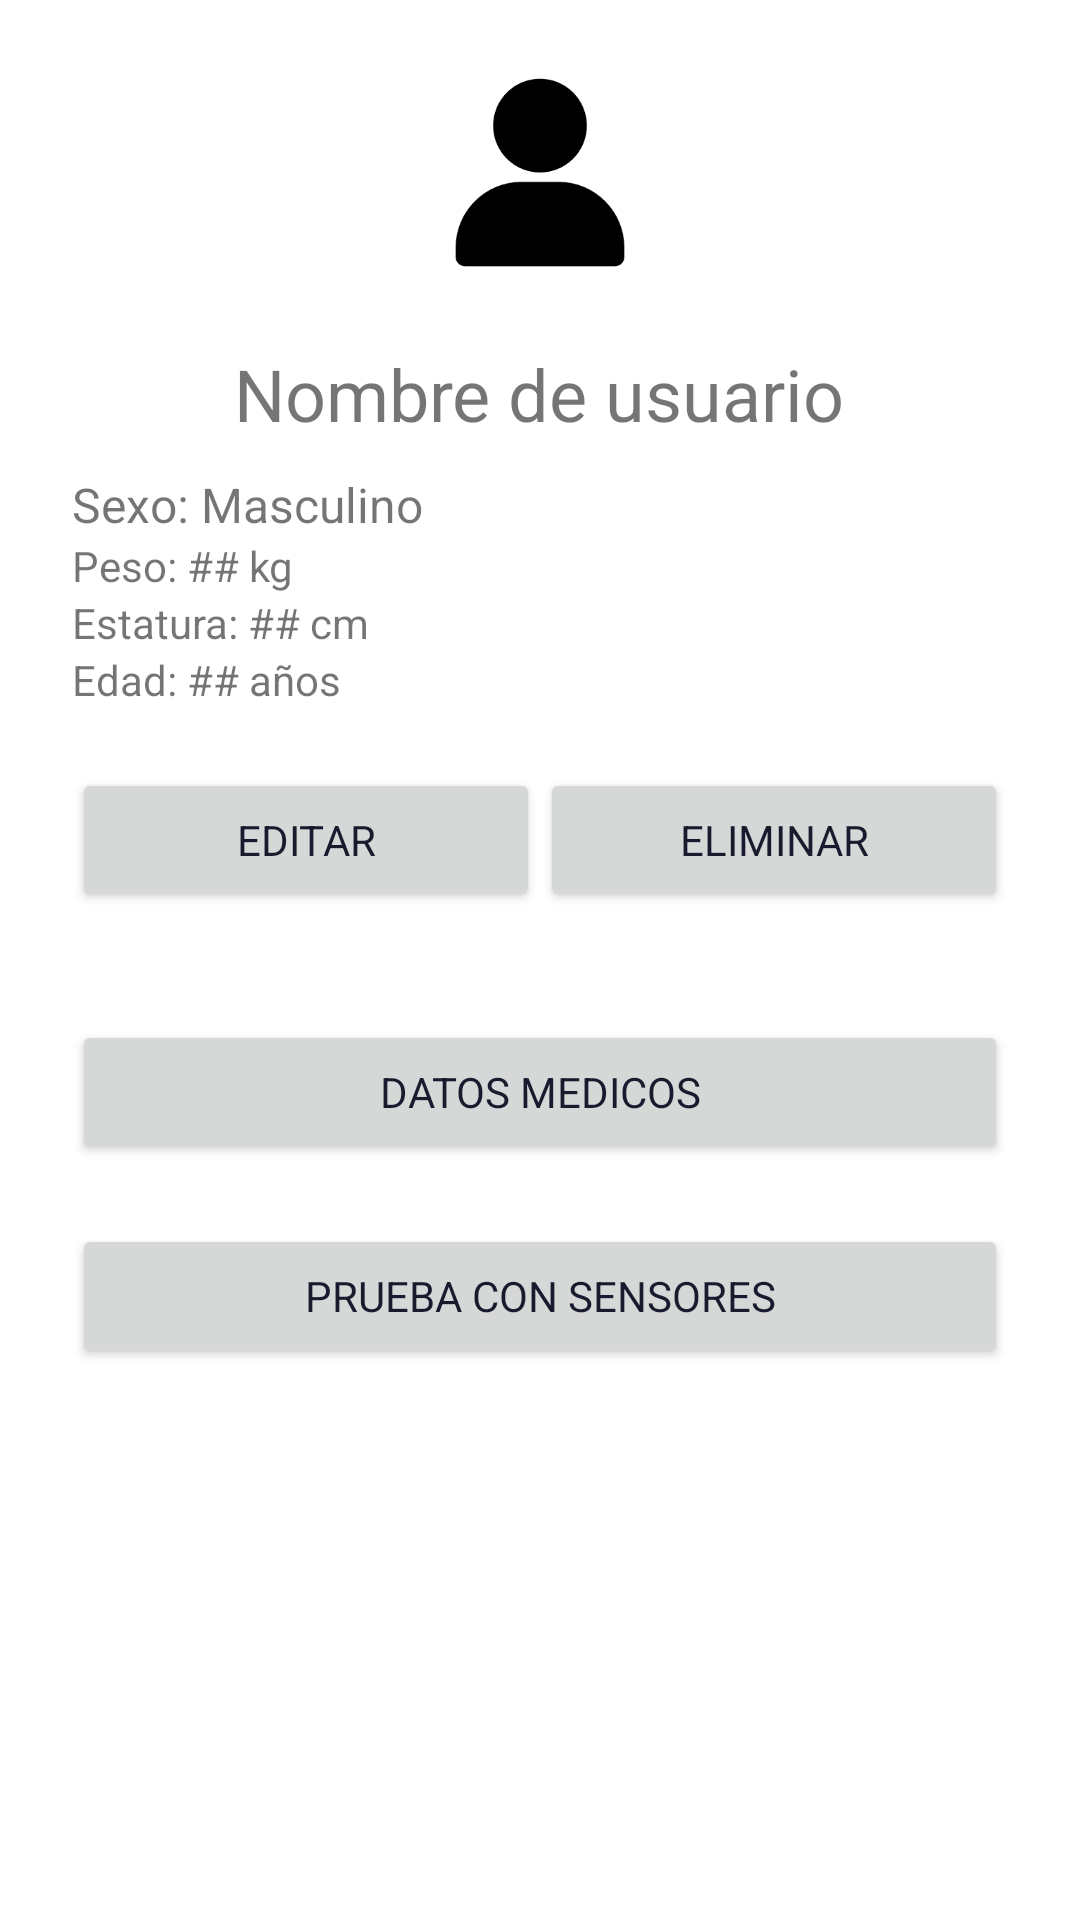

Icons on this 1080*1920 Android screen, each with its box as {"left": x1, "top": y1, "right": x2, "bottom": y2}:
user: {"left": 455, "top": 78, "right": 625, "bottom": 267}
